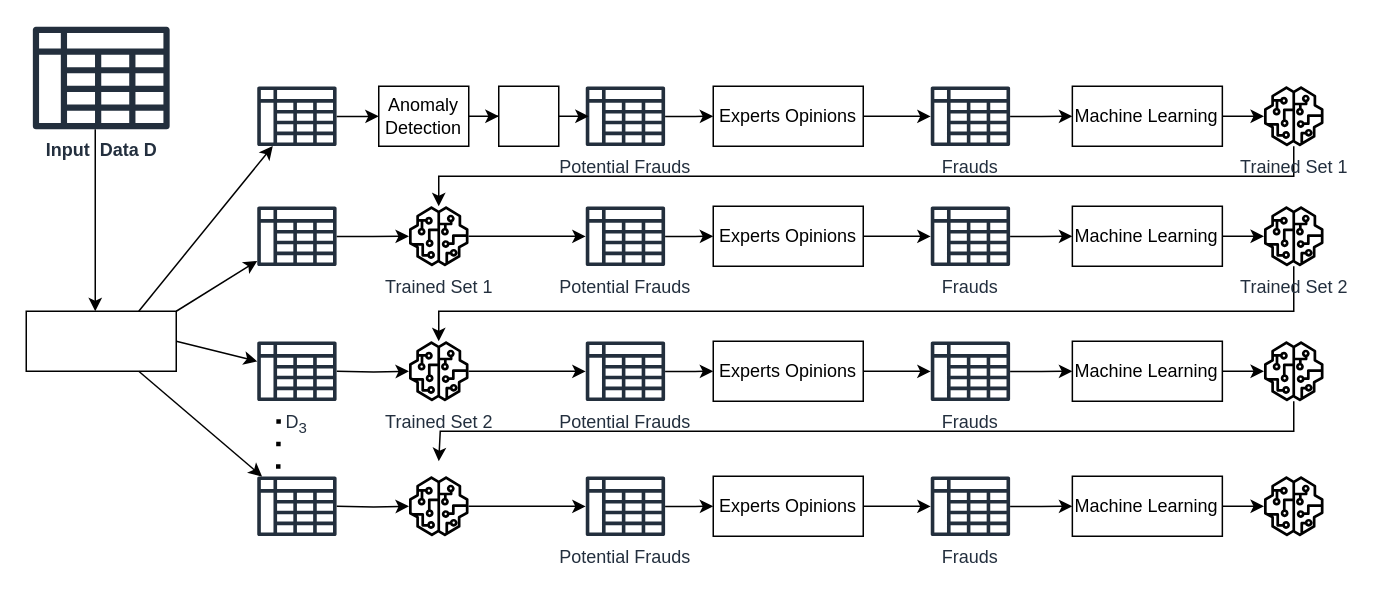
The diagram is 1376 pixels wide and 597 high, and some of its shapes have lost their labels. Each missing label, with the box of its shape:
D 1: (256, 86, 336, 146)
D 2: (256, 206, 336, 266)
D m: (256, 476, 336, 536)
EAD: (497, 85, 559, 146)
Pre Processing: (25, 310, 176, 371)
Trained Set 3: (1263, 340, 1323, 400)
Trained Set m: (1263, 476, 1323, 536)
Trained Set m-1: (408, 476, 468, 536)
